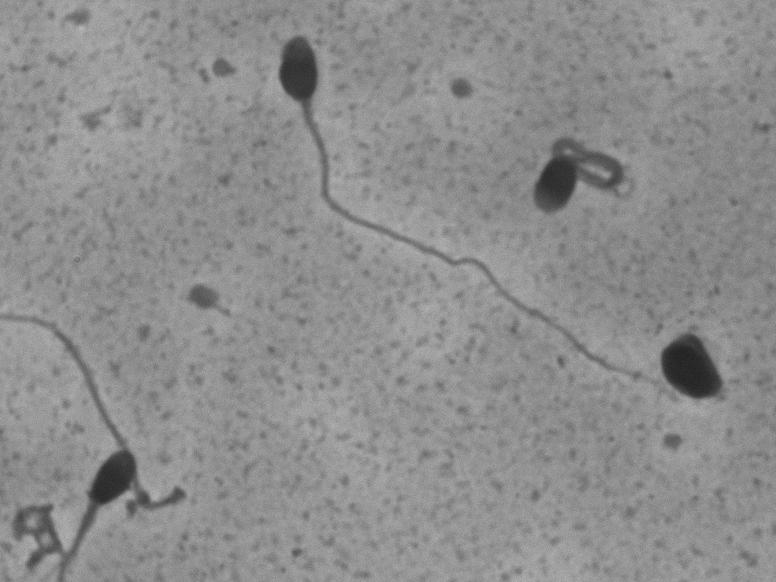Abnormal: (258, 23, 679, 418), (515, 109, 647, 230)
